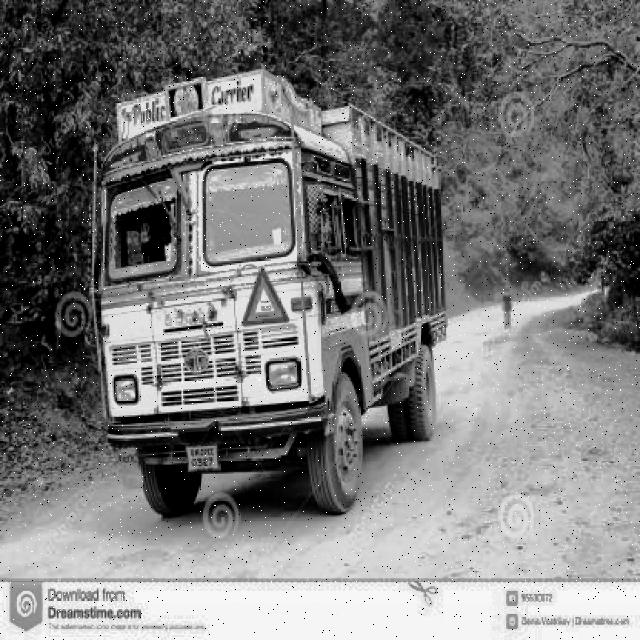HCV: (71, 29, 456, 476)
